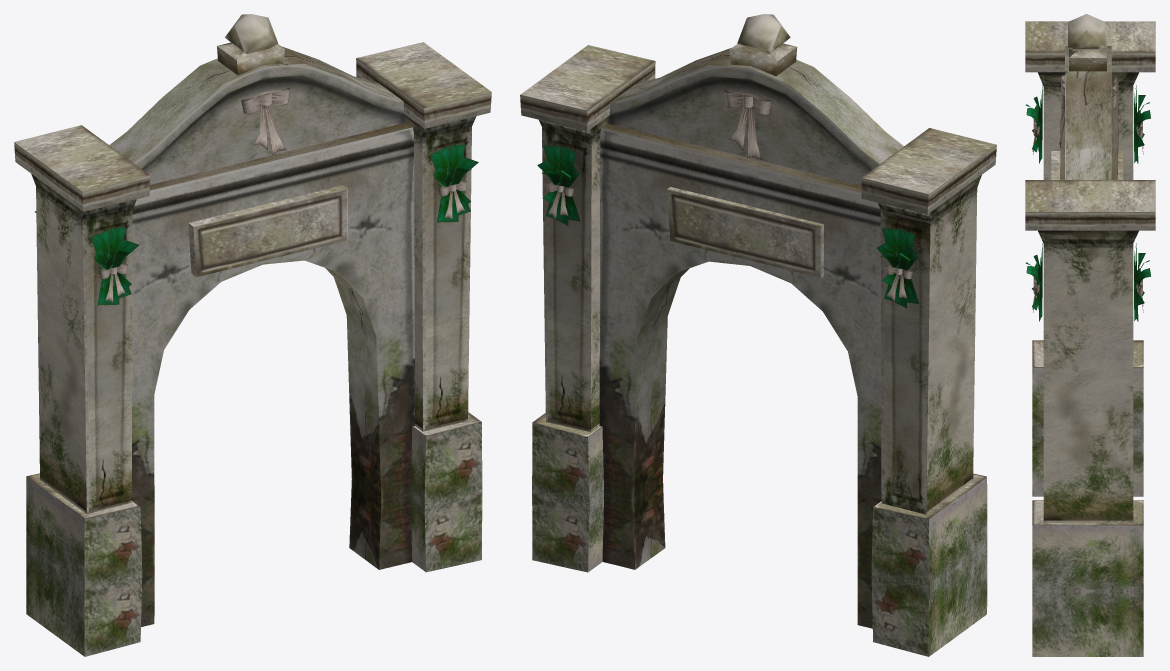
Rendered from spanish_archC.fbx.
3 views of the same model, side by side, from view 1: azimuth 30°, elevation 25°; view 2: azimuth 150°, elevation 25°; view 3: azimuth 270°, elevation 25° (orthographic). The views are drawn at different scales.
Visible parts, largest first — view 1: arch__main, arch_column6, arch_column5, arch_top, arch_sign, arch_topdetail_C3, arch_topdetail_C2; view 2: arch__main, arch_column6, arch_column5, arch_top, arch_sign1, arch_topdetail_C3, arch_topdetail_C2; view 3: arch_column5, arch_column6, arch_top, arch_topdetail_C3, arch__main, arch_topdetail_C2, arch_sign.
Boxes of the visible parts, <box> form: arch__main: <box>132,122,414,626</box>; arch_column6: <box>14,125,149,656</box>; arch_column5: <box>356,42,491,572</box>; arch_top: <box>109,46,406,184</box>; arch_sign: <box>188,185,347,277</box>; arch_topdetail_C3: <box>225,14,278,53</box>; arch_topdetail_C2: <box>217,42,284,75</box>; arch__main: <box>599,123,881,628</box>; arch_column6: <box>861,128,996,656</box>; arch_column5: <box>520,45,655,572</box>; arch_top: <box>607,47,903,185</box>; arch_sign1: <box>667,187,823,277</box>; arch_topdetail_C3: <box>737,14,790,53</box>; arch_topdetail_C2: <box>729,43,797,76</box>; arch_column5: <box>1025,180,1155,656</box>; arch_column6: <box>1025,21,1155,496</box>; arch_top: <box>1065,46,1111,179</box>; arch_topdetail_C3: <box>1068,14,1105,50</box>; arch__main: <box>1060,81,1118,179</box>; arch_topdetail_C2: <box>1069,35,1106,71</box>; arch_sign: <box>1051,151,1060,179</box>.
Size of the model in its own units: 3147 by 4219 by 908.
2 materials, 2 textured.
